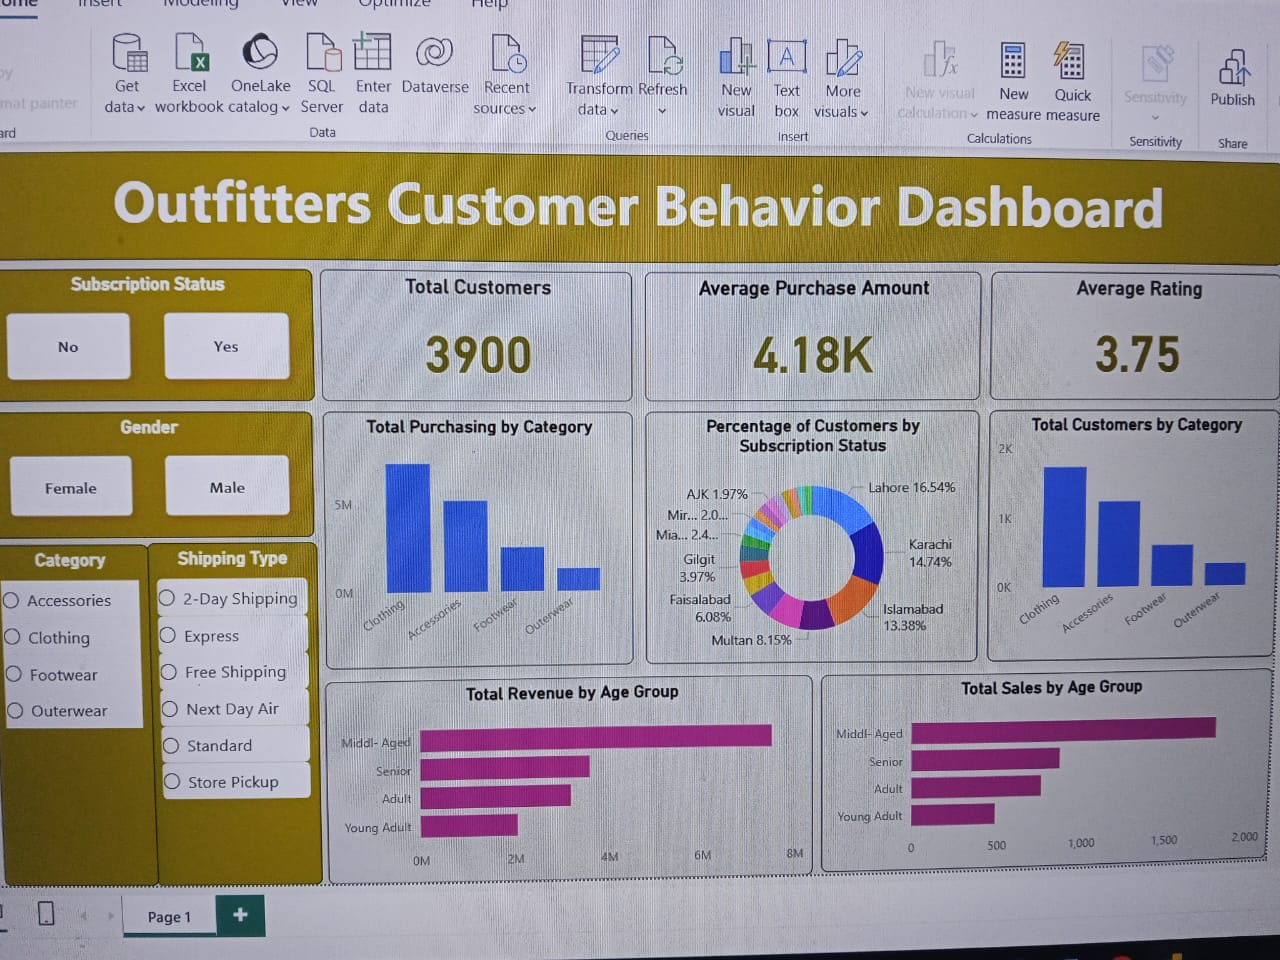

Layout of this report page (visuals, bound fields, positions):
{"tool":"powerbi","page":{"name":"Page 1","canvas":[1280,720],"ordinal":0},"visuals":[{"type":"textbox","box":[10,10,1270,102],"z":0},{"type":"group","id":"g1","title":"Group 1","box":[8,121,311.8,599.2],"z":1000},{"type":"card","title":"Total Customers","fields":{"Values":["Count(Outfitters_customer_shopping_behavior (3).Customer ID)"]},"box":[327.7,121.1,299.6,126],"z":2000},{"type":"card","title":"Average Purchase Amount","fields":{"Values":["Avg(Outfitters_customer_shopping_behavior (3).Purchase Amount(PKR))"]},"box":[639.5,121.1,331.4,126],"z":3000},{"type":"card","title":"Average Rating","fields":{"Values":["Avg(Outfitters_customer_shopping_behavior (3).Review Rating)"]},"box":[980.7,121.1,299.6,126],"z":4000},{"type":"listSlicer","fields":{"Values":["Outfitters_customer_shopping_behavior (3).Shipping Type"]},"box":[158.4,382.7,161.4,337.5],"z":4000,"group":"g1"},{"type":"clusteredBarChart","title":"Total Revenue by Age Group","fields":{"Category":["Outfitters_customer_shopping_behavior (3).Age Group"],"Y":["Sum(Outfitters_customer_shopping_behavior (3).Purchase Amount(PKR))"]},"box":[326.5,519.7,479.4,200.5],"z":4001},{"type":"clusteredBarChart","title":"Total Sales by Age Group","fields":{"Category":["Outfitters_customer_shopping_behavior (3).Age Group"],"Y":["CountNonNull(Outfitters_customer_shopping_behavior (3).Customer ID)"]},"box":[814.4,519.7,465.9,198.1],"z":4002},{"type":"clusteredColumnChart","title":"Total Purchasing by Category","fields":{"Category":["Outfitters_customer_shopping_behavior (3).Category"],"Y":["Sum(Outfitters_customer_shopping_behavior (3).Purchase Amount(PKR))"]},"box":[327.7,256.8,299.6,250.7],"z":4003},{"type":"pieChart","title":"Percentage of Customers by Subscription Status","fields":{"Y":["CountNonNull(Outfitters_customer_shopping_behavior (3).Customer ID)"],"Category":["Outfitters_customer_shopping_behavior (3).Location"]},"box":[639.5,256.8,331.4,250.7],"z":4004},{"type":"clusteredColumnChart","title":"Total Customers by Category","fields":{"Category":["Outfitters_customer_shopping_behavior (3).Category"],"Y":["CountNonNull(Outfitters_customer_shopping_behavior (3).Customer ID)"]},"box":[980.7,256.8,299.6,250.7],"z":4005},{"type":"listSlicer","fields":{"Values":["Outfitters_customer_shopping_behavior (3).Category"]},"box":[8.1,383.9,151.6,336.3],"z":4125,"group":"g1"},{"type":"advancedSlicerVisual","fields":{"Values":["Outfitters_customer_shopping_behavior (3).Gender"]},"box":[8,256.7,309.4,121.1],"z":4250,"group":"g1"},{"type":"advancedSlicerVisual","fields":{"Values":["Outfitters_customer_shopping_behavior (3).Subscription Status"]},"box":[8,121,311.8,126],"z":4500,"group":"g1"}]}

Visuals, with their boxes in screenshot pixels (x1, y1, x2, y2):
textbox: bbox(0, 154, 1279, 258)
"Group 1" group: bbox(0, 267, 317, 880)
"Total Customers" card: bbox(325, 267, 631, 396)
"Average Purchase Amount" card: bbox(644, 267, 983, 396)
"Average Rating" card: bbox(993, 267, 1279, 396)
listSlicer - Outfitters_customer_shopping_behavior (3).Shipping Type: bbox(152, 535, 317, 880)
"Total Revenue by Age Group" clusteredBarChart: bbox(324, 675, 814, 880)
"Total Sales by Age Group" clusteredBarChart: bbox(823, 675, 1279, 877)
"Total Purchasing by Category" clusteredColumnChart: bbox(325, 406, 631, 662)
"Percentage of Customers by Subscription Status" pieChart: bbox(644, 406, 983, 662)
"Total Customers by Category" clusteredColumnChart: bbox(993, 406, 1279, 662)
listSlicer - Outfitters_customer_shopping_behavior (3).Category: bbox(0, 536, 153, 880)
advancedSlicerVisual - Outfitters_customer_shopping_behavior (3).Gender: bbox(0, 406, 315, 530)
advancedSlicerVisual - Outfitters_customer_shopping_behavior (3).Subscription Status: bbox(0, 267, 317, 396)
